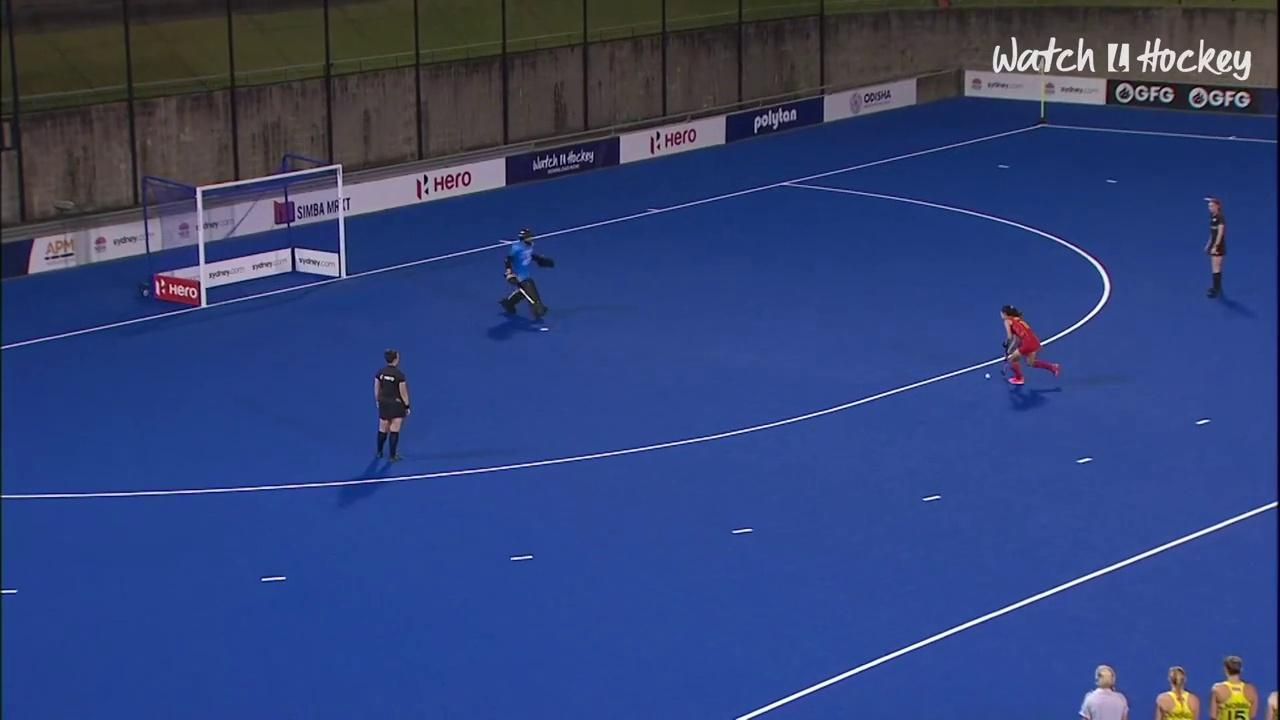ball: (984, 367, 991, 384)
